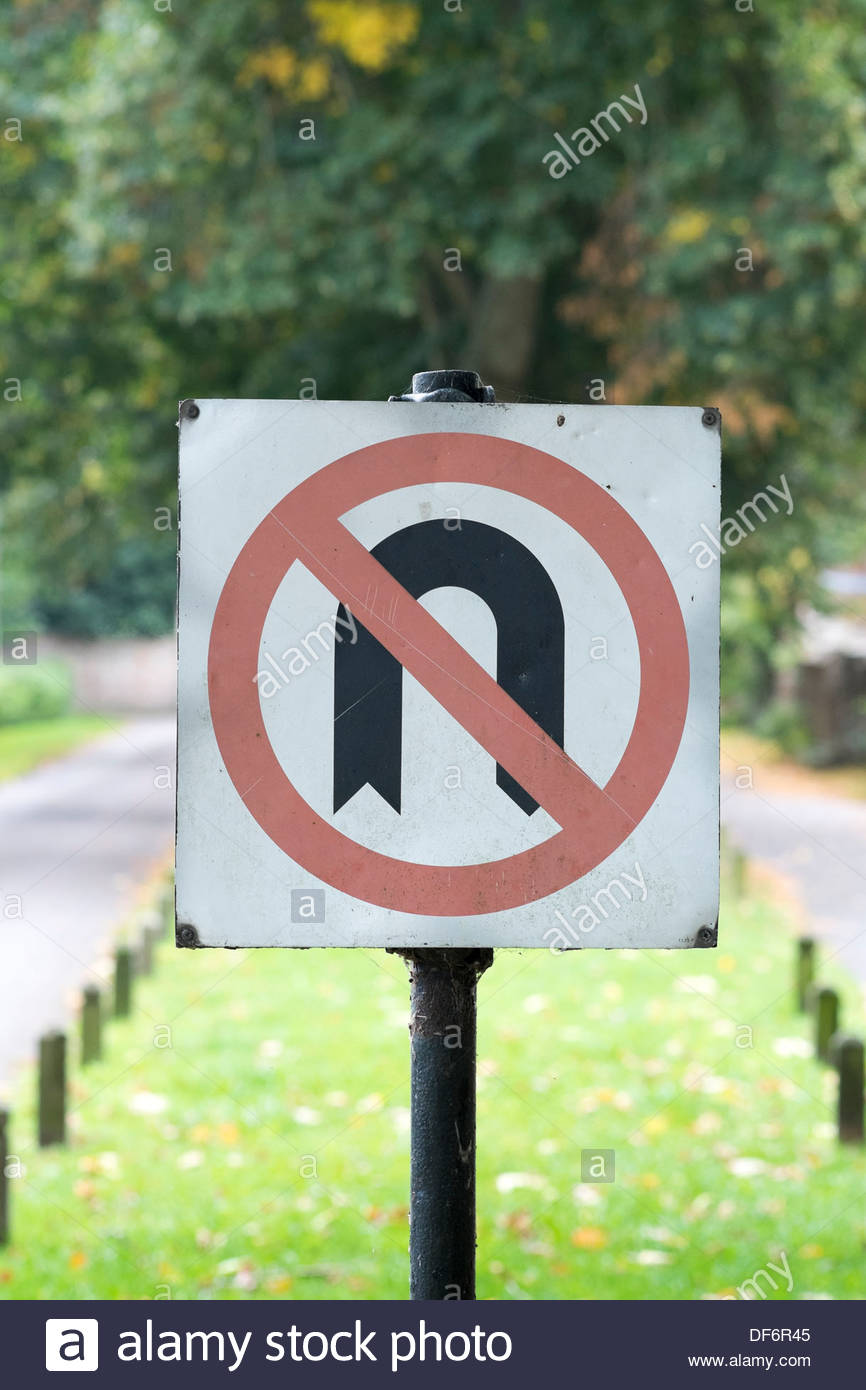No_u_turn: (210, 434, 687, 914)
